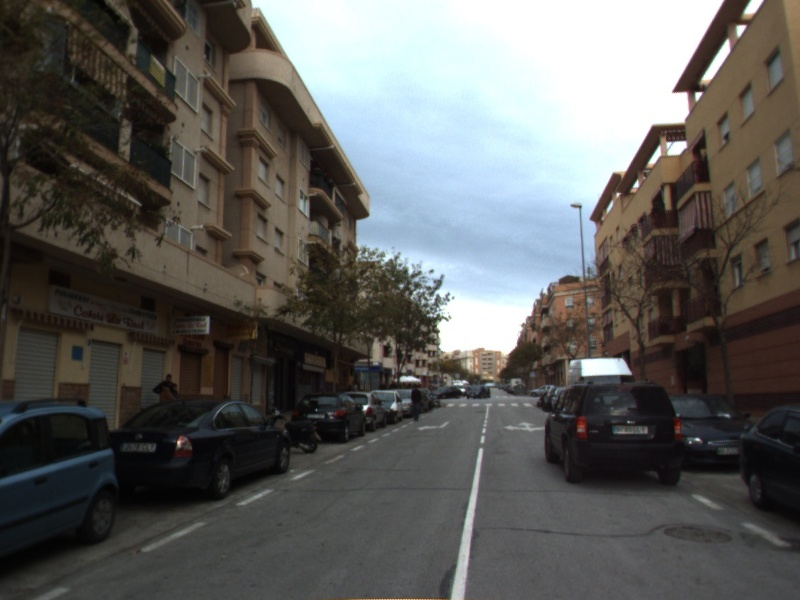STRAIGHT_LEFT_RIGHT: (502, 420, 547, 433)
